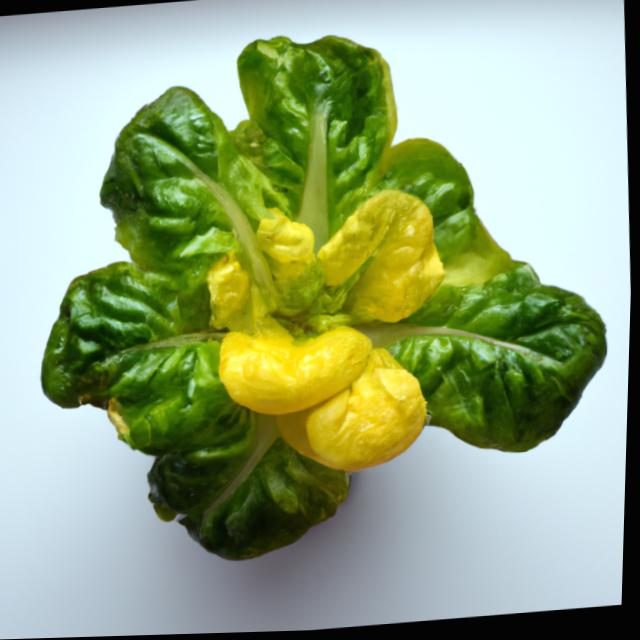-N: (10, 0, 635, 589)
